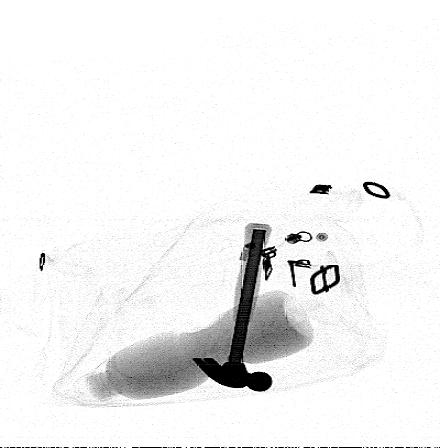Hammer: (192, 222, 273, 392)
